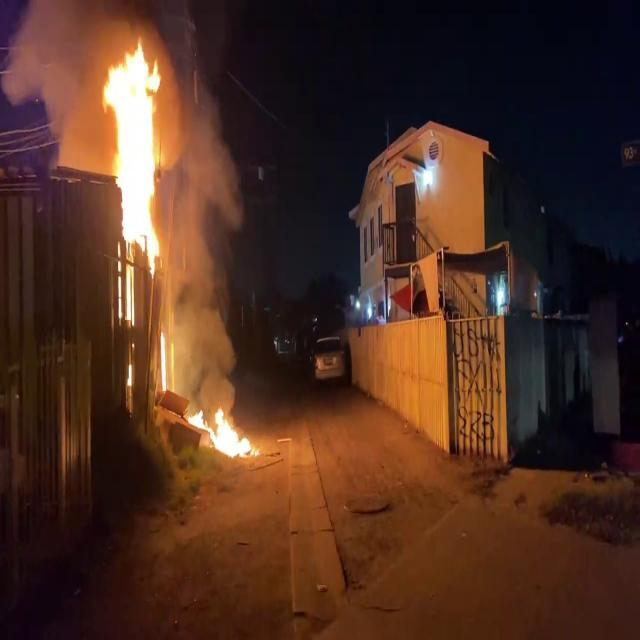Fire: (102, 39, 170, 278), (188, 398, 258, 462)
